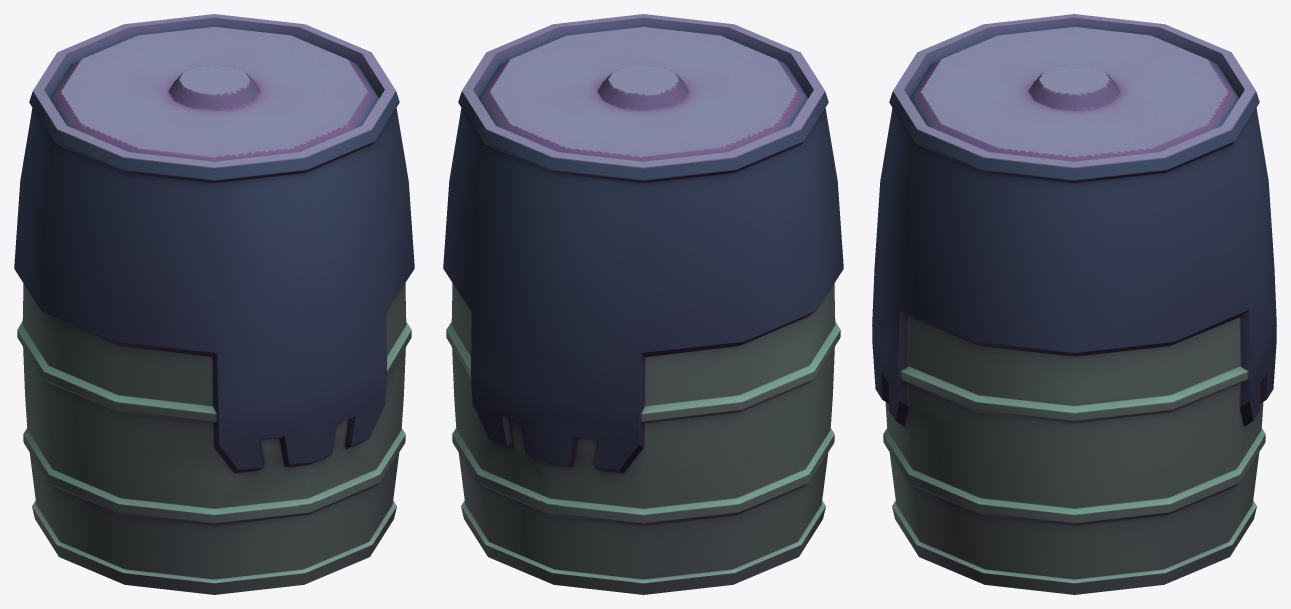
Rendered from Barrel_Explosive.glb.
The picture shows the model from 3 angles, left to right: view 1: azimuth 30°, elevation 25°; view 2: azimuth 150°, elevation 25°; view 3: azimuth 270°, elevation 25°; orthographic projection.
Visible parts, largest first — view 1: Barrel_Explosive; view 2: Barrel_Explosive; view 3: Barrel_Explosive.
Part boxes in pixels (bbox=[...]): Barrel_Explosive: bbox=[14, 14, 414, 594]; Barrel_Explosive: bbox=[443, 14, 843, 594]; Barrel_Explosive: bbox=[872, 14, 1276, 594].
Size of the model in its own units: 0.6914 by 0.8384 by 0.6994.
1 material, 1 textured.
